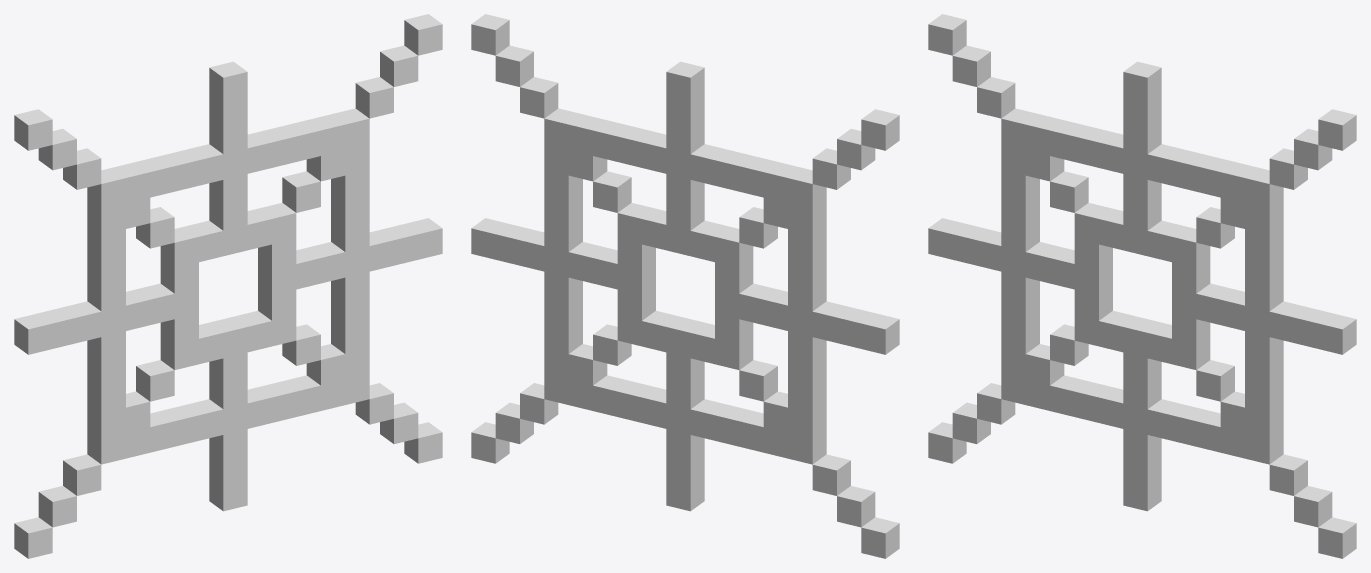
The model's file is chapter1_spiderweb.fbx.
3 views of the same model, side by side, from view 1: azimuth 30°, elevation 25°; view 2: azimuth 150°, elevation 25°; view 3: azimuth 330°, elevation 25° (orthographic).
Parts seen in each view (by area): view 1: Matrix_57; view 2: Matrix_57; view 3: Matrix_57.
Part boxes in pixels (<box>): Matrix_57: <box>14,14,442,558</box>; Matrix_57: <box>471,14,899,558</box>; Matrix_57: <box>928,14,1356,558</box>.
Bounding box in the file's own units: 17 × 17 × 1.
